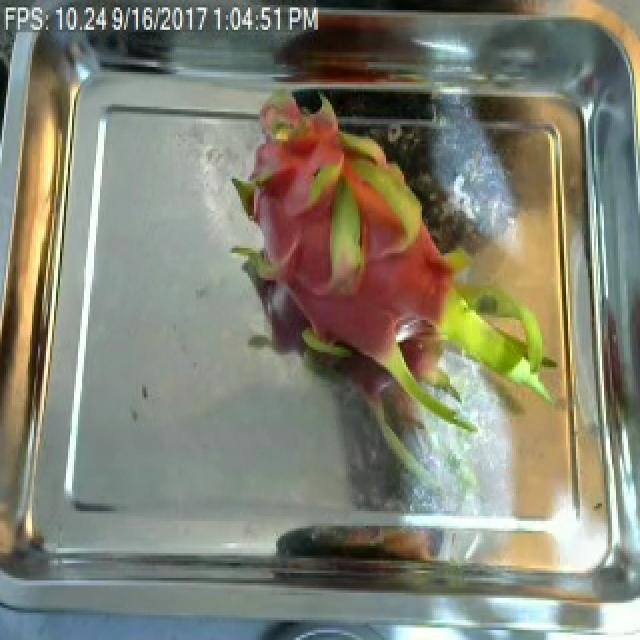fruit: (210, 79, 518, 469)
